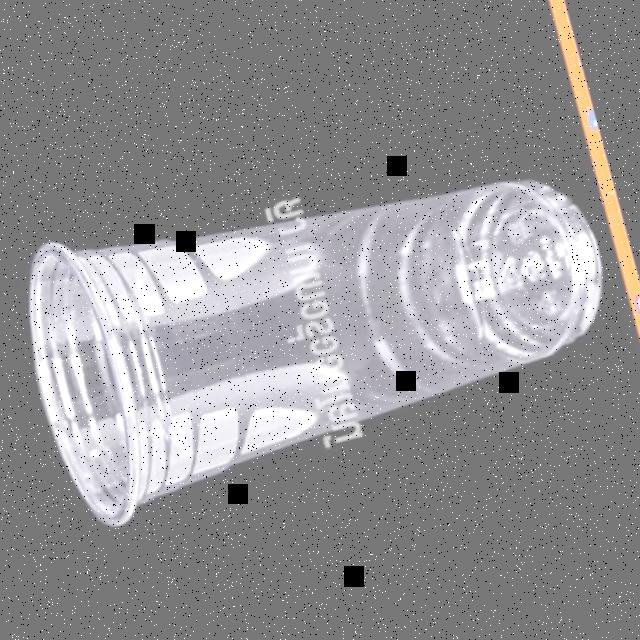plastic_cup: (8, 105, 634, 536)
